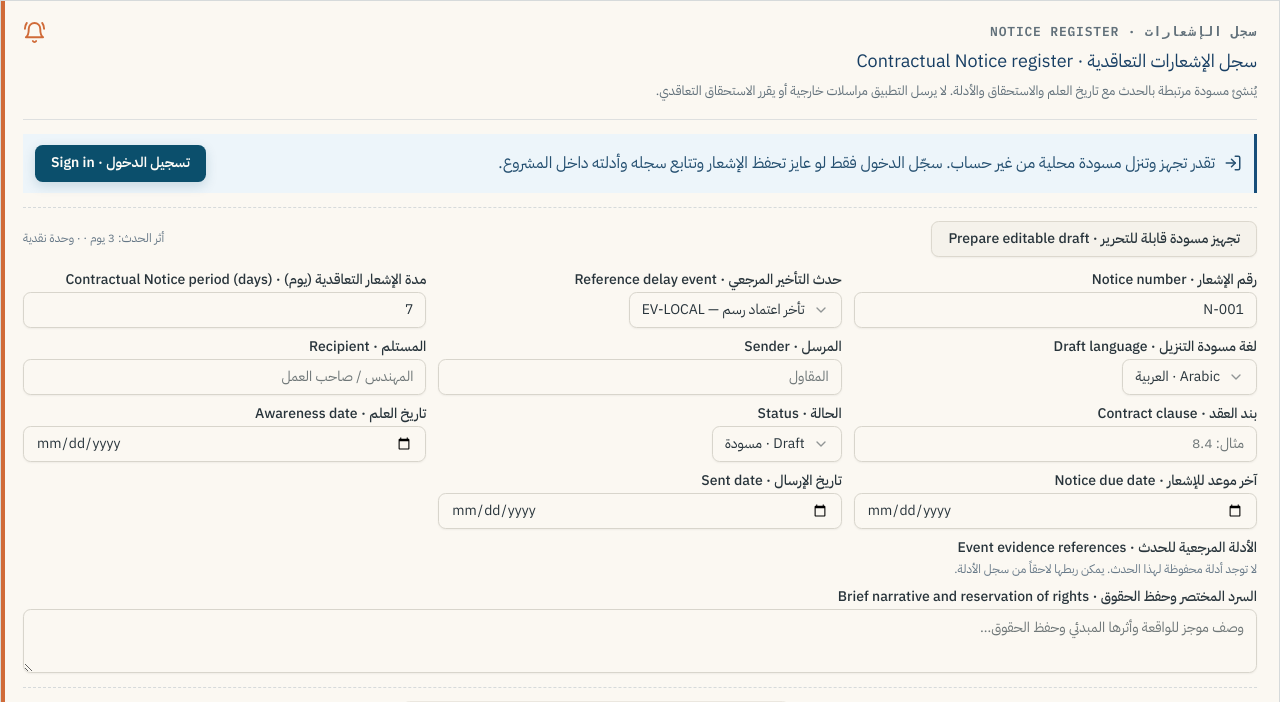
تنزيل مسودة Notice محلية › يجهز وينزل مسودة للمستخدم غير المسجل بدون بدء تسجيل الدخول
This screenshot has width=1280, height=702.
Later steps or results of the test are not shown.
Expected: the text "تقدر تجهز وتنزل مسودة محلية من غير حساب" is shown, [498,151,1215,175]
Expected: the heading "سجل الإشعارات التعاقدية · Contractual Notice register" is shown, [856,47,1257,74]
Click the button "تجهيز مسودة قابلة للتحرير · Prepare editable draft". click: (1094, 238)
box: [931,220,1257,256]
(page scrolled)
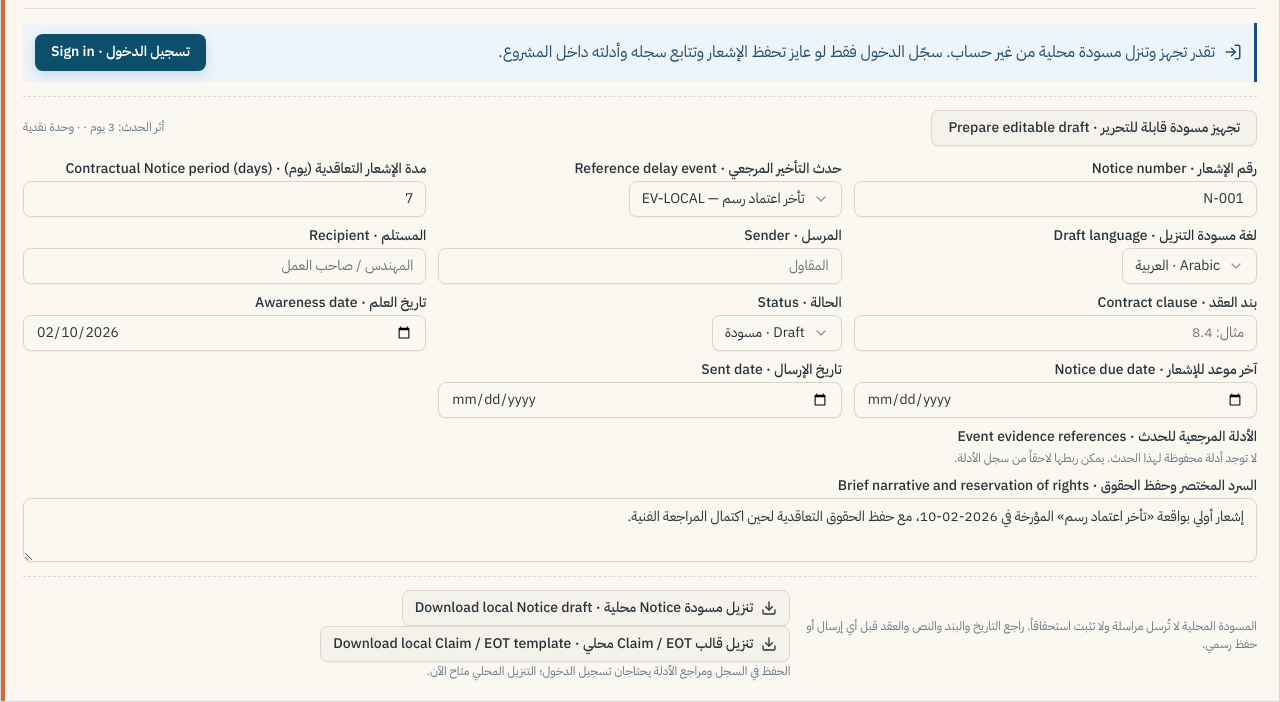
Expected: the button "تنزيل مسودة Notice محلية · Download local Notice draft" is enabled, [402,590,790,626]
